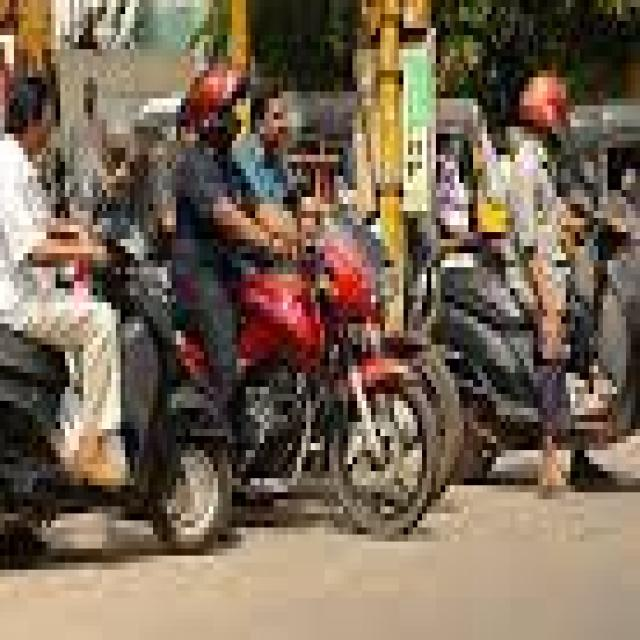bike: (190, 197, 441, 527), (0, 253, 237, 563), (431, 169, 640, 492)
